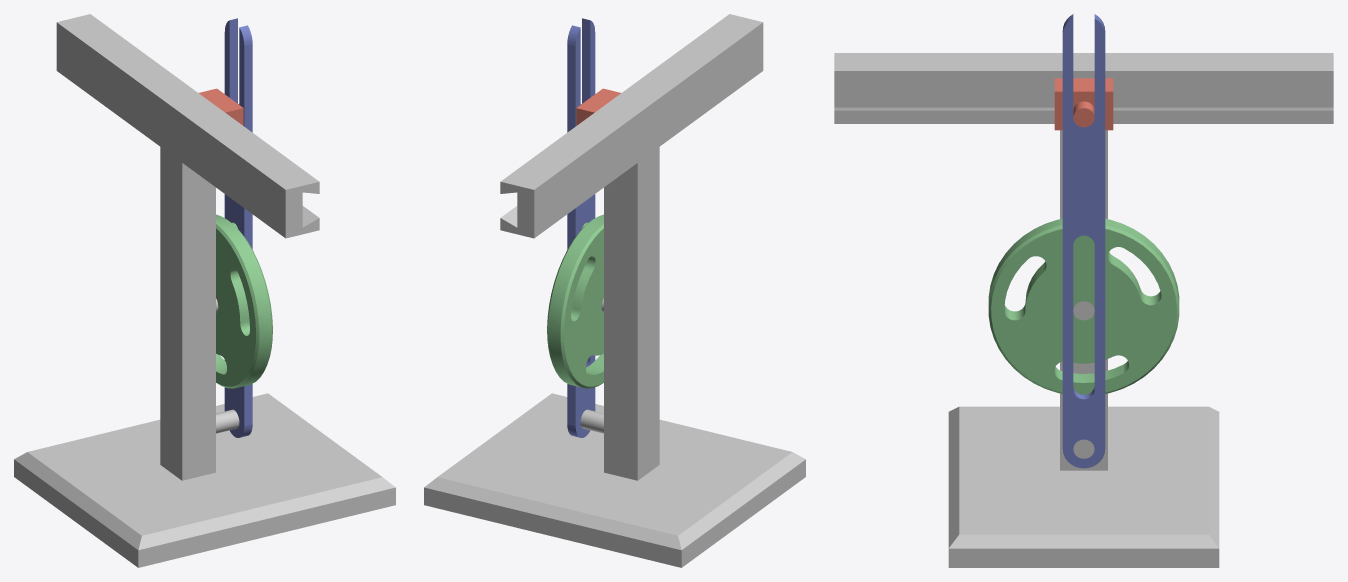
3 views of the same model, side by side, from view 1: azimuth 30°, elevation 25°; view 2: azimuth 150°, elevation 25°; view 3: azimuth 270°, elevation 25° (orthographic). The views are drawn at different scales.
Visible parts, largest first — view 1: empty_6, empty_5, empty_3, empty_4, empty_2; view 2: empty_6, empty_5, empty_3, empty_4, empty_2; view 3: empty_5, empty_6, empty_3, empty_4, empty_2.
Boxes of the visible parts, <box> form: empty_6: <box>56,14,319,480</box>; empty_5: <box>14,393,395,567</box>; empty_3: <box>216,214,272,388</box>; empty_4: <box>224,18,252,437</box>; empty_2: <box>199,88,243,125</box>; empty_6: <box>500,14,763,480</box>; empty_5: <box>424,393,805,567</box>; empty_3: <box>547,214,603,388</box>; empty_4: <box>567,18,595,437</box>; empty_2: <box>576,88,620,125</box>; empty_5: <box>948,406,1219,567</box>; empty_6: <box>834,53,1333,470</box>; empty_3: <box>988,218,1179,394</box>; empty_4: <box>1062,14,1105,468</box>; empty_2: <box>1054,78,1113,130</box>.
Bounding box in the file's own units: 1.22 × 2.08 × 1.88.
